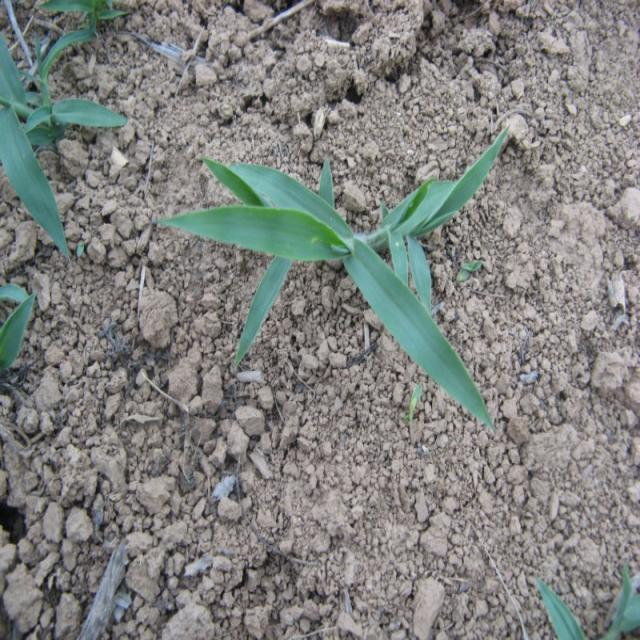bg: (156, 116, 504, 428)
